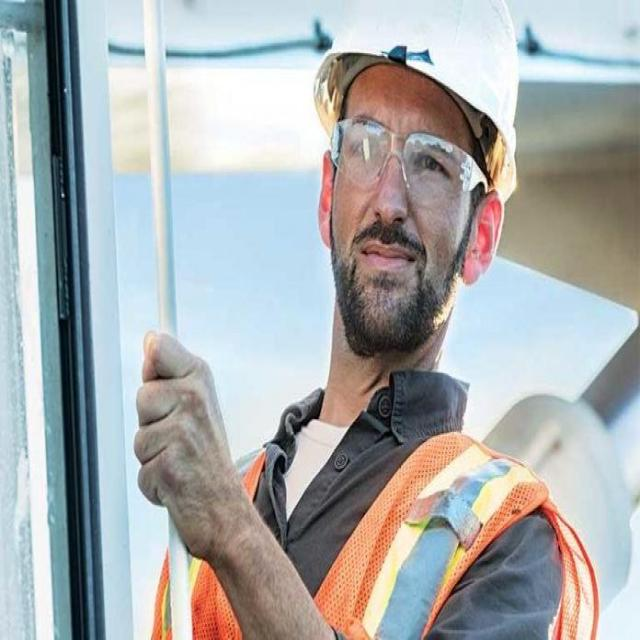Reflective-Jacket: (154, 400, 612, 640)
Safety-Helmet: (316, 0, 522, 149)
